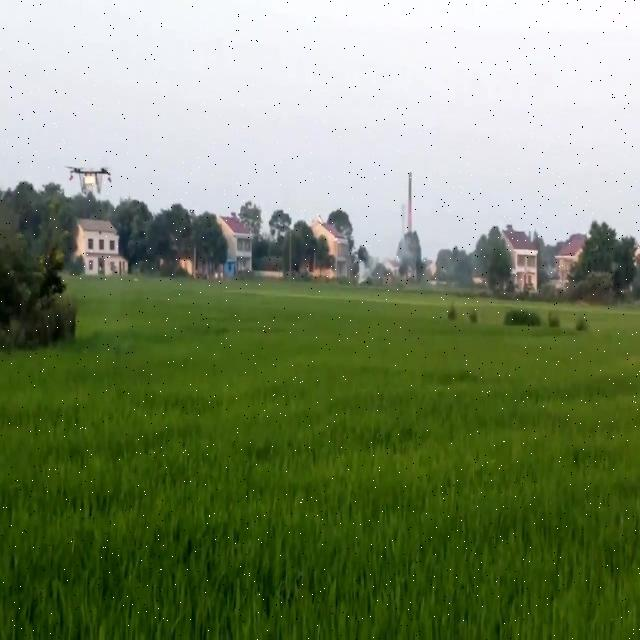UAV: (64, 166, 112, 196)
